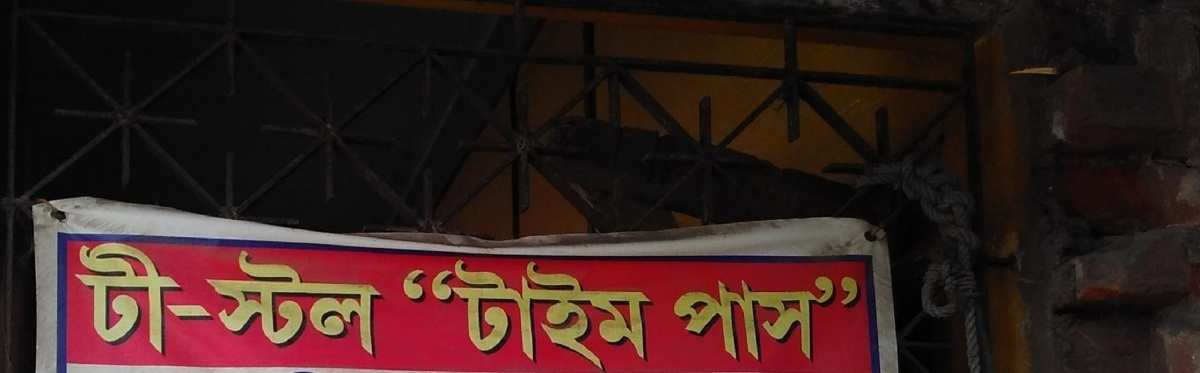text: (369, 242, 385, 360), (81, 240, 96, 363), (97, 240, 112, 363), (113, 240, 128, 363), (129, 240, 144, 363), (145, 240, 160, 363), (161, 240, 176, 363), (177, 240, 192, 363), (193, 240, 208, 363), (209, 240, 224, 363), (209, 242, 224, 360), (225, 242, 240, 360), (241, 242, 256, 360), (257, 242, 272, 360), (273, 242, 288, 360), (289, 242, 304, 360), (305, 242, 320, 360), (321, 242, 336, 360), (337, 242, 352, 360), (353, 242, 368, 360), (417, 255, 432, 373), (433, 255, 448, 373), (449, 255, 464, 373), (465, 255, 480, 373), (481, 255, 496, 373), (497, 255, 512, 373), (513, 255, 528, 373), (529, 255, 544, 373), (545, 255, 560, 373), (561, 255, 576, 373), (577, 255, 592, 373), (593, 255, 608, 373), (609, 255, 624, 373), (625, 255, 640, 373), (641, 255, 656, 373), (194, 242, 208, 360), (402, 255, 416, 373), (673, 267, 688, 367), (689, 267, 704, 367), (705, 267, 720, 367), (721, 267, 736, 367), (737, 267, 752, 367), (753, 267, 768, 367), (769, 267, 784, 367), (785, 267, 800, 367), (801, 267, 816, 367), (817, 267, 832, 367), (833, 267, 848, 367), (849, 267, 864, 367), (73, 240, 80, 363), (225, 240, 229, 363), (865, 267, 869, 367), (669, 267, 672, 367), (657, 255, 659, 373)
